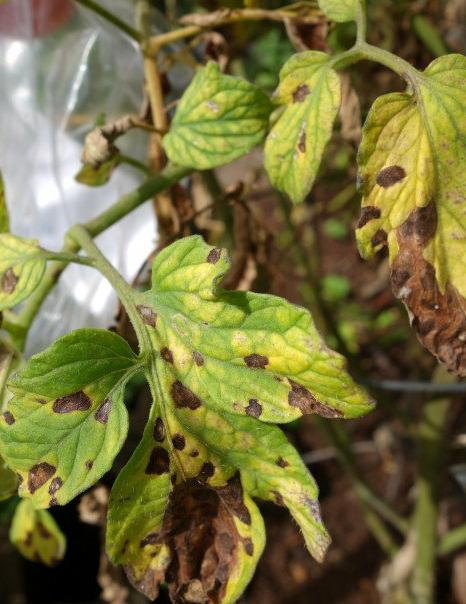Tomato leaf bacterial spot: (125, 239, 376, 426), (358, 30, 466, 423), (3, 326, 144, 511), (261, 49, 349, 199), (159, 61, 270, 168)
